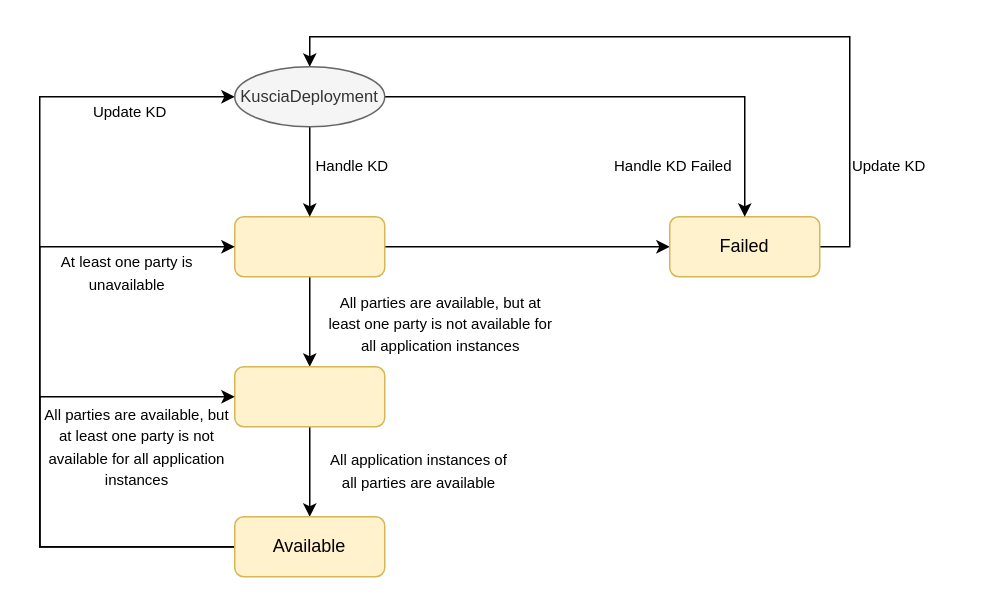
The diagram is 1002 pixels wide and 603 high, and some of its shapes have lost their labels. The centre of each missing label's shape, as x and y in pixels:
"PartialAvailable" goes at point (309, 396).
"Progressing" goes at point (309, 246).
